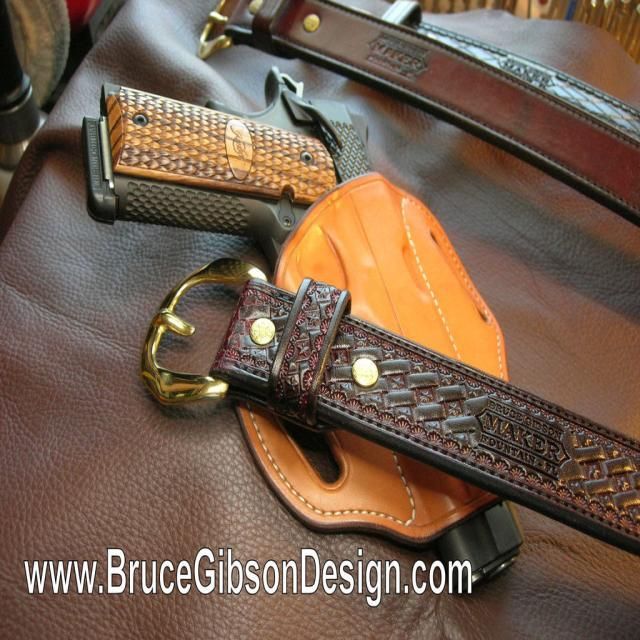Gun: (82, 63, 383, 282), (439, 504, 522, 594)
